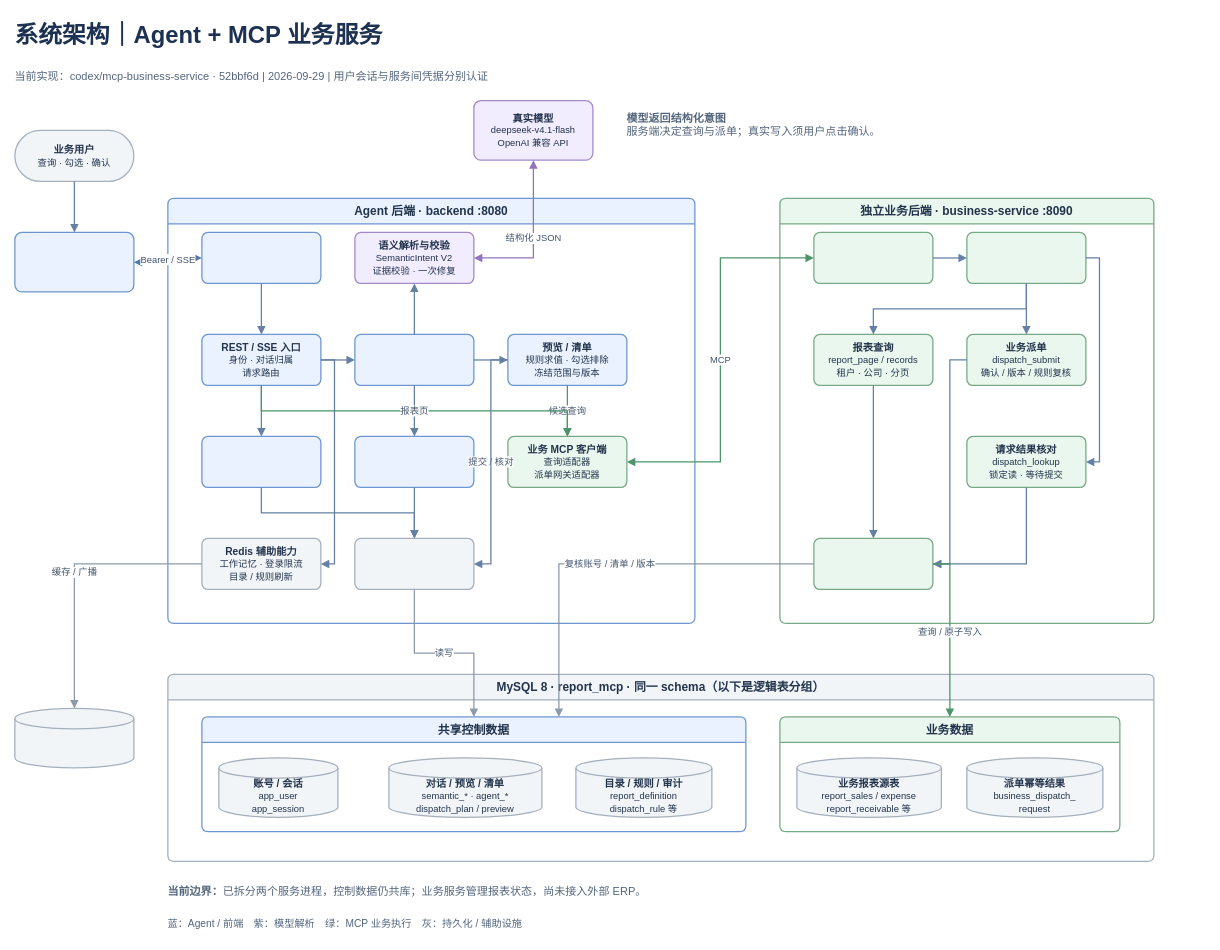
Image size: 1220x950. Some labels were removed from this diagram. The shapes that lost their labels are listed below. From the top down, each one's centre as x and y in pixels, then its label:
At point (74, 261): "Web 界面 :5173 Vue 2 + Element UI 报表与 SSE 对话".
At point (261, 257): "用户认证 SessionFilter 8h 可撤销会话".
At point (873, 257): "服务间认证 独立 Bearer 密钥 Origin / 请求体限制".
At point (1026, 257): "MCP /mcp Java SDK · 无状态 Streamable HTTP".
At point (414, 359): "对话状态与规划 范围合并 · 动作约束 权限 · 配额 · 租约".
At point (261, 461): "配置管理 报表目录 · 规则 账号 · 运营策略".
At point (414, 461): "确认与执行编排 认领执行版本 逐条提交 · 核对结果".
At point (414, 563): "控制数据访问 MyBatis / JDBC 状态 · 审计 · 追溯".
At point (873, 563): "数据访问 / 事务 源记录状态 + 请求结果 同一事务提交".
At point (74, 737): "Redis 辅助缓存与广播 权威业务状态在 MySQL".
